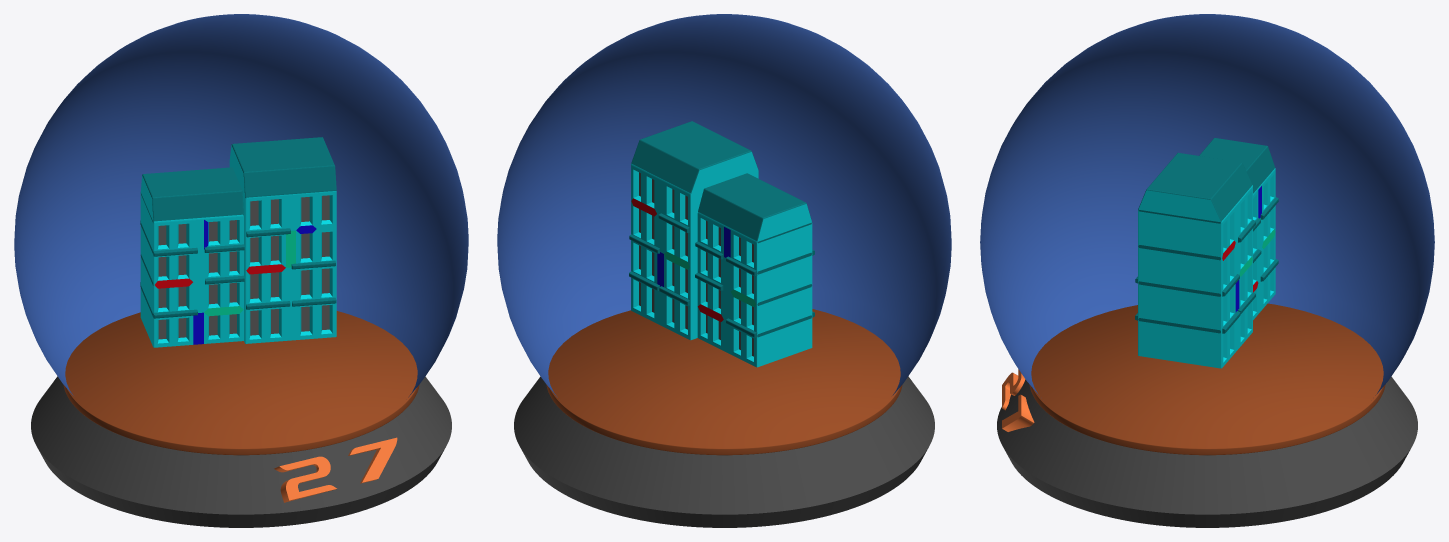
The model's file is Curio_27.glb.
3 renders of one model, left to right at view 1: azimuth 30°, elevation 25°; view 2: azimuth 150°, elevation 25°; view 3: azimuth 270°, elevation 25°, orthographic.
Parts seen in each view (by area): view 1: Sphere.089, Cylinder.040, Sphere.088, Sphere.087, Text.034; view 2: Sphere.089, Sphere.088, Cylinder.040, Sphere.087; view 3: Sphere.089, Sphere.088, Sphere.087, Cylinder.040, Text.034.
Part boxes in pixels (x1,y1,x2,y2): Sphere.089: [14, 14, 468, 397]; Cylinder.040: [140, 137, 336, 347]; Sphere.088: [63, 311, 419, 455]; Sphere.087: [31, 376, 451, 527]; Text.034: [274, 437, 397, 502]; Sphere.089: [497, 14, 951, 397]; Sphere.088: [546, 309, 902, 455]; Cylinder.040: [629, 121, 814, 367]; Sphere.087: [514, 376, 934, 527]; Sphere.089: [980, 14, 1434, 395]; Sphere.088: [1029, 303, 1385, 455]; Sphere.087: [997, 376, 1417, 527]; Cylinder.040: [1135, 138, 1278, 368]; Text.034: [1002, 369, 1034, 431].
Size of the model in its own units: 4.66 by 4.62 by 4.66.
